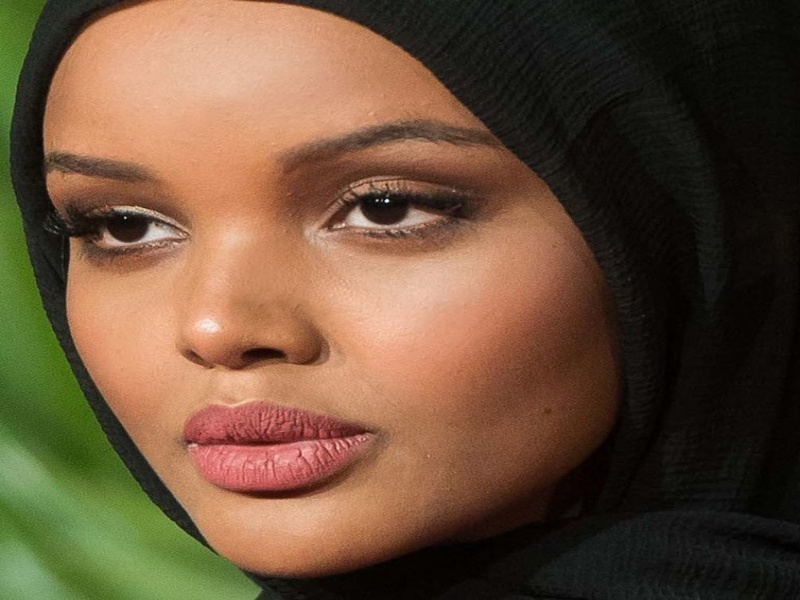face: (55, 109, 510, 509)
